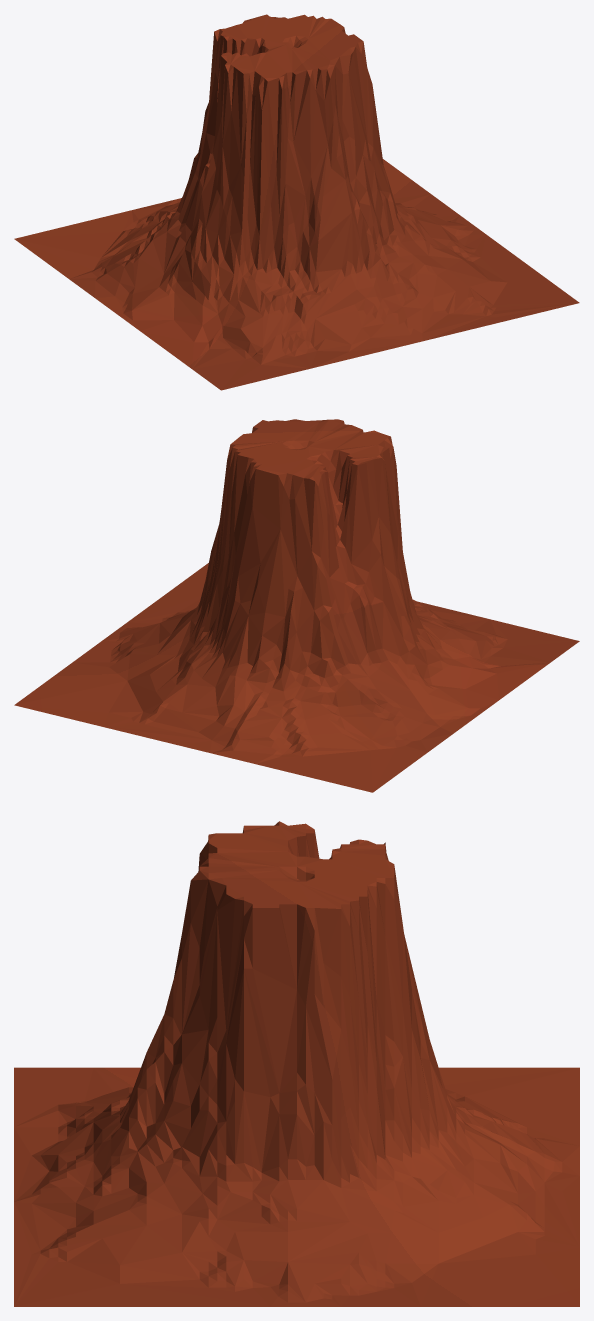
The model's file is Canyon_Terrain.FBX.
3 renders of one model, top to bottom at view 1: azimuth 30°, elevation 25°; view 2: azimuth 150°, elevation 25°; view 3: azimuth 270°, elevation 25°, orthographic. The views are drawn at different scales.
Visible parts, largest first — view 1: Canyon_Terrain; view 2: Canyon_Terrain; view 3: Canyon_Terrain.
Part boxes in pixels (left/top/right/bottom): Canyon_Terrain: left=14, top=14, right=579, bottom=390; Canyon_Terrain: left=14, top=419, right=579, bottom=792; Canyon_Terrain: left=14, top=821, right=579, bottom=1306.
Size of the model in its own units: 1000 by 614 by 1000.
Materials: 1 (1 with a texture image).
